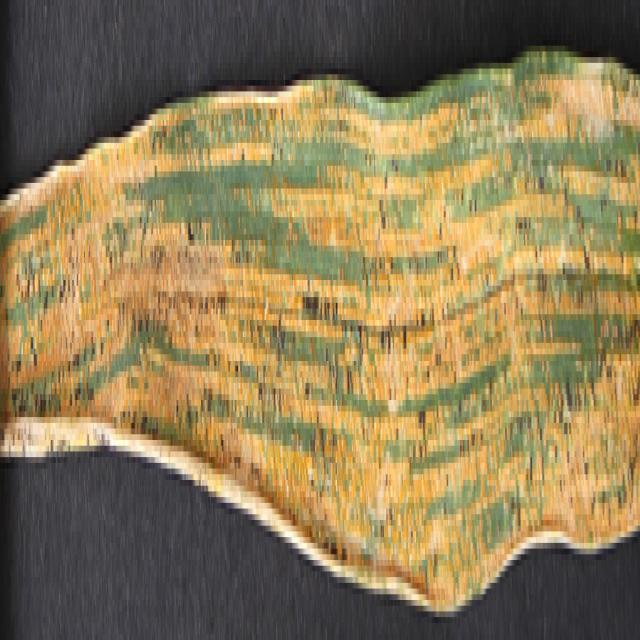leaf rust: (1, 23, 639, 577)
